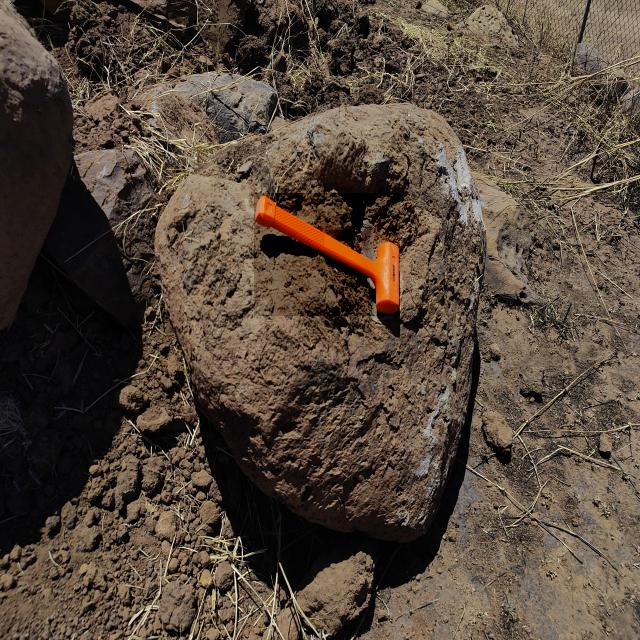Orange_hammer: (254, 193, 400, 316)
